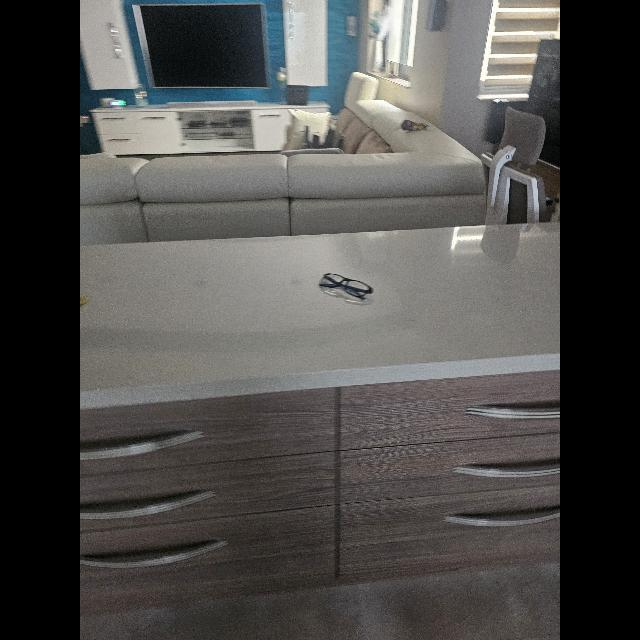glasses: (318, 274, 374, 300)
